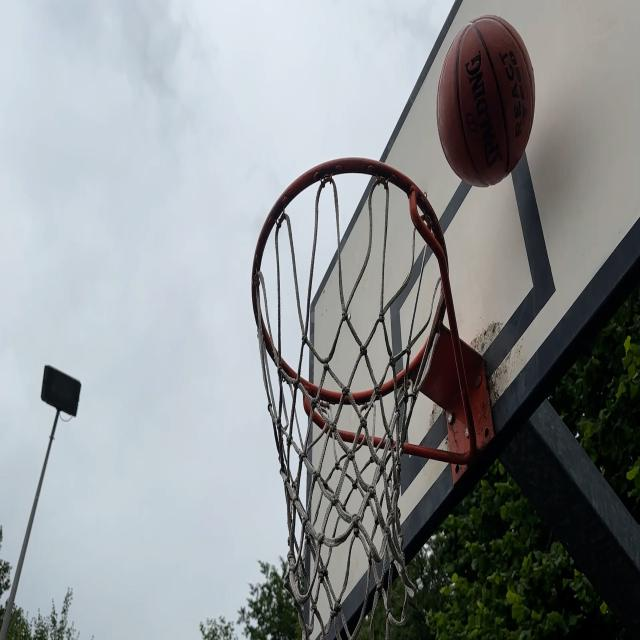Basketball: (436, 14, 534, 184)
